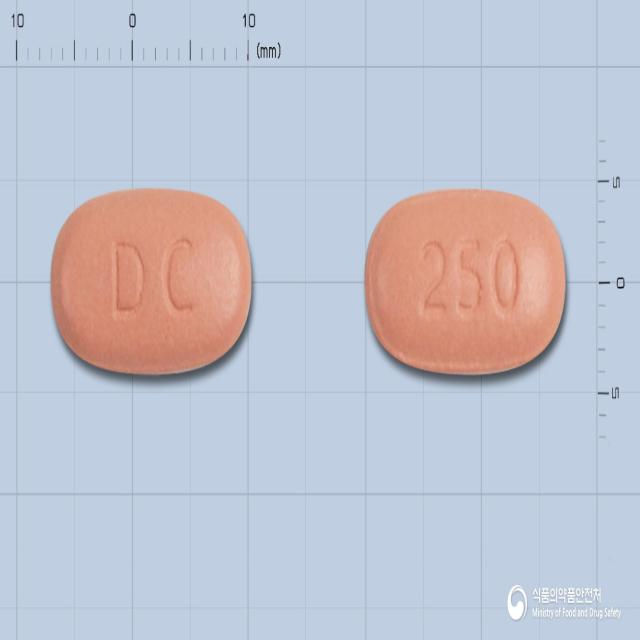Dongkoo Levofloxacin Hydrate Tab-250mg: (49, 187, 254, 378), (364, 186, 567, 377)
